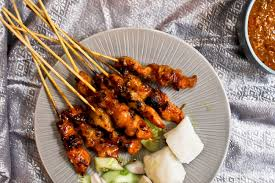sate: (32, 30, 224, 177)
